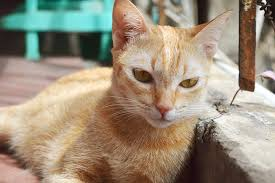cat: (2, 2, 236, 183)
